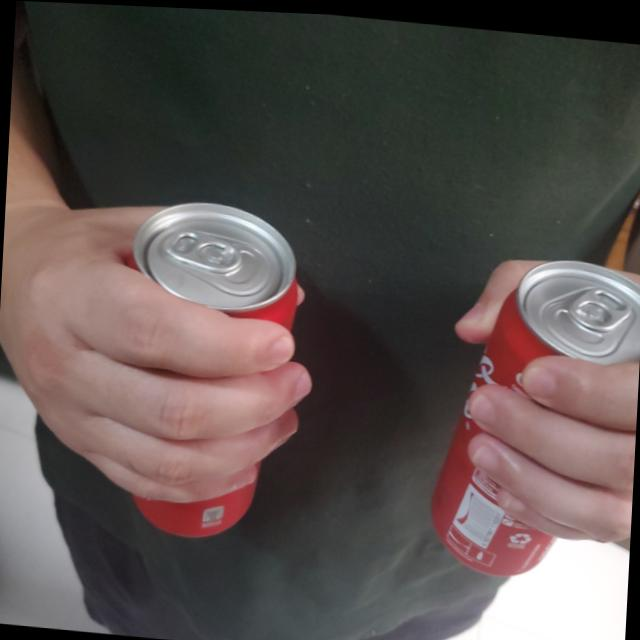coke: (428, 246, 640, 587), (120, 196, 304, 547)
